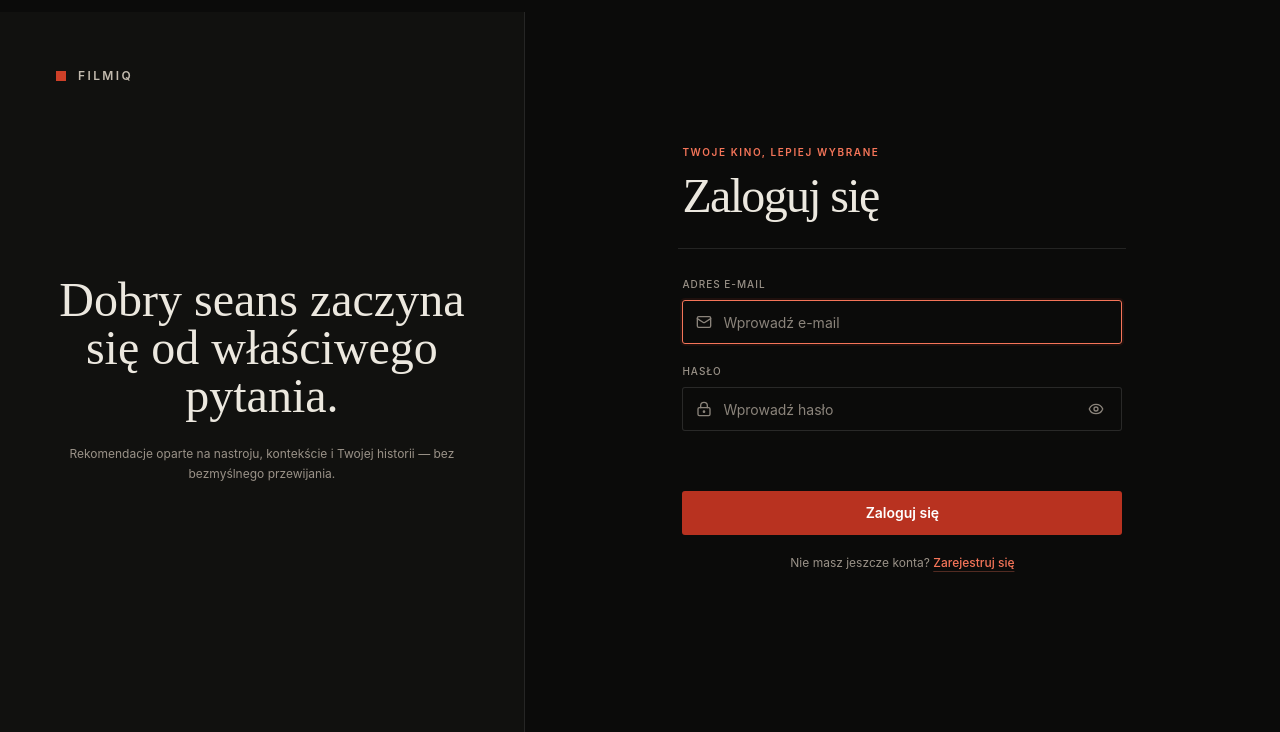
Scenario: App routing › moves from backend login to recommendations
In the field labelled "Adres e-mail": (902, 322) [682, 300, 1122, 344], type "user@example.com"
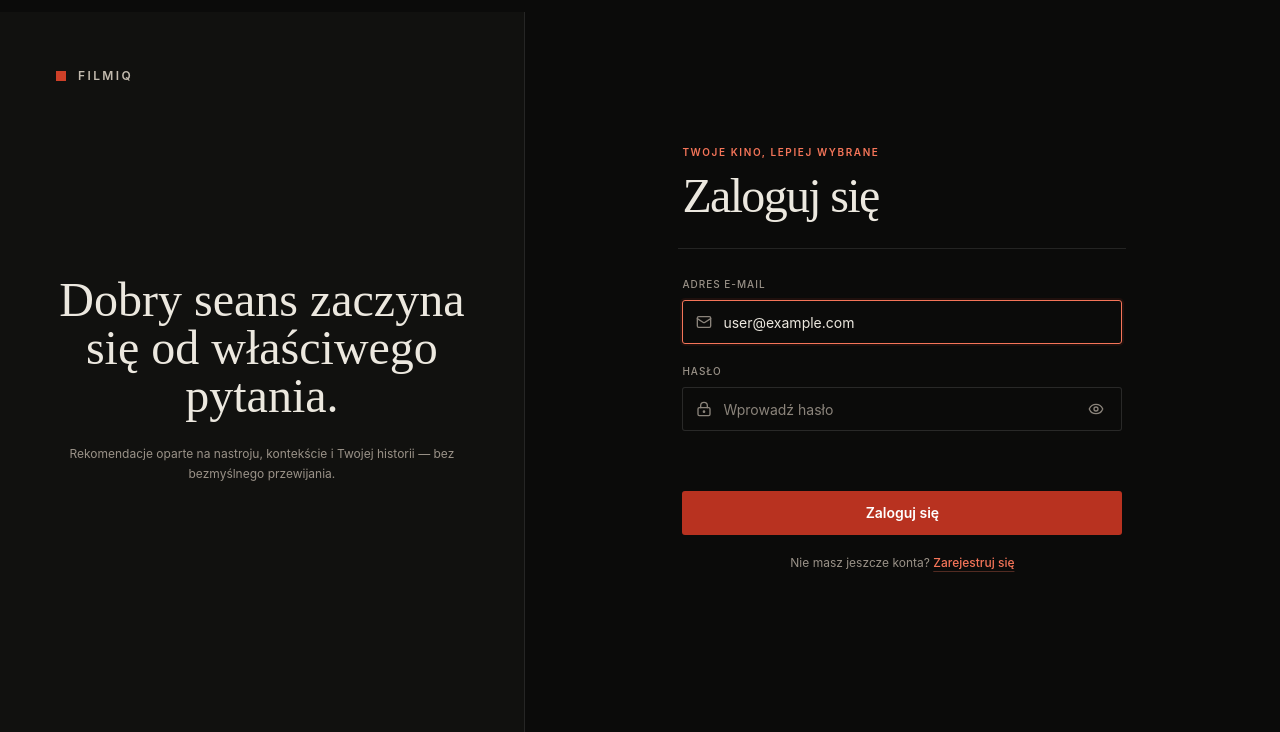
In the password field labelled "Hasło": (902, 409) [682, 387, 1122, 431], type "haslo123"
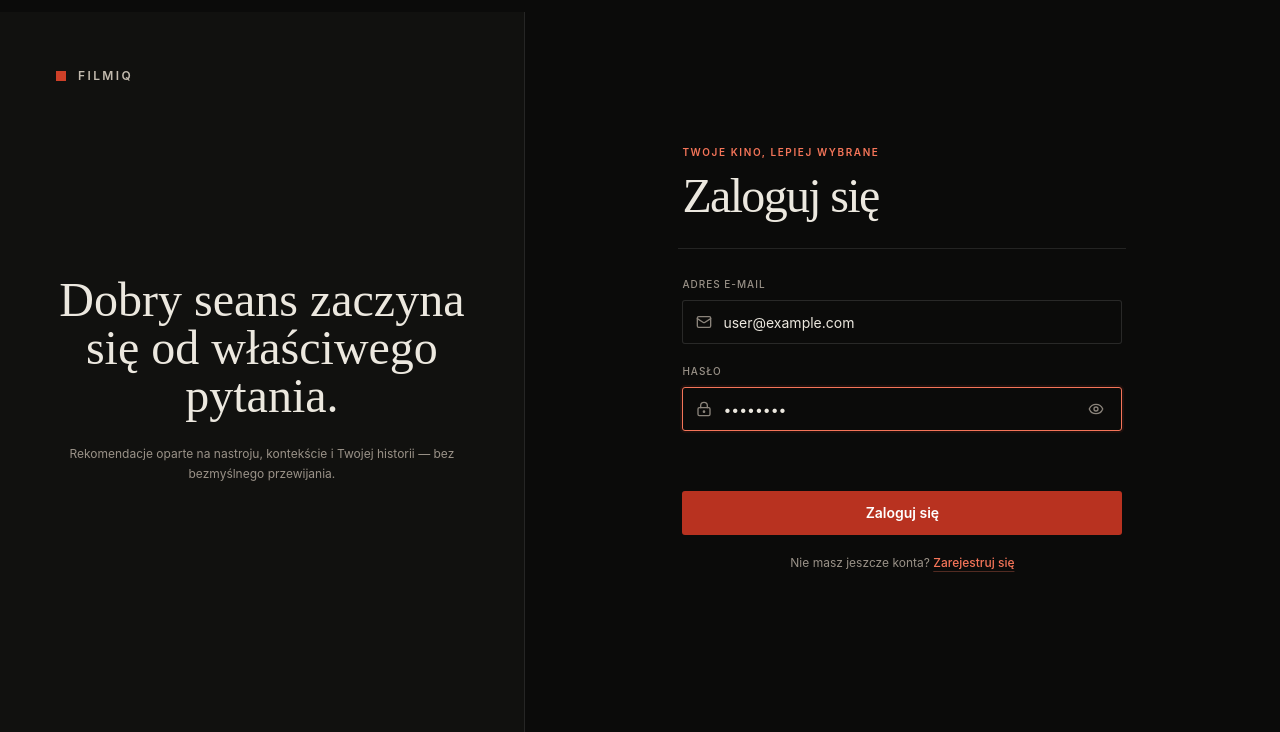
Click the button "Zaloguj się": (902, 513) [682, 491, 1122, 535]
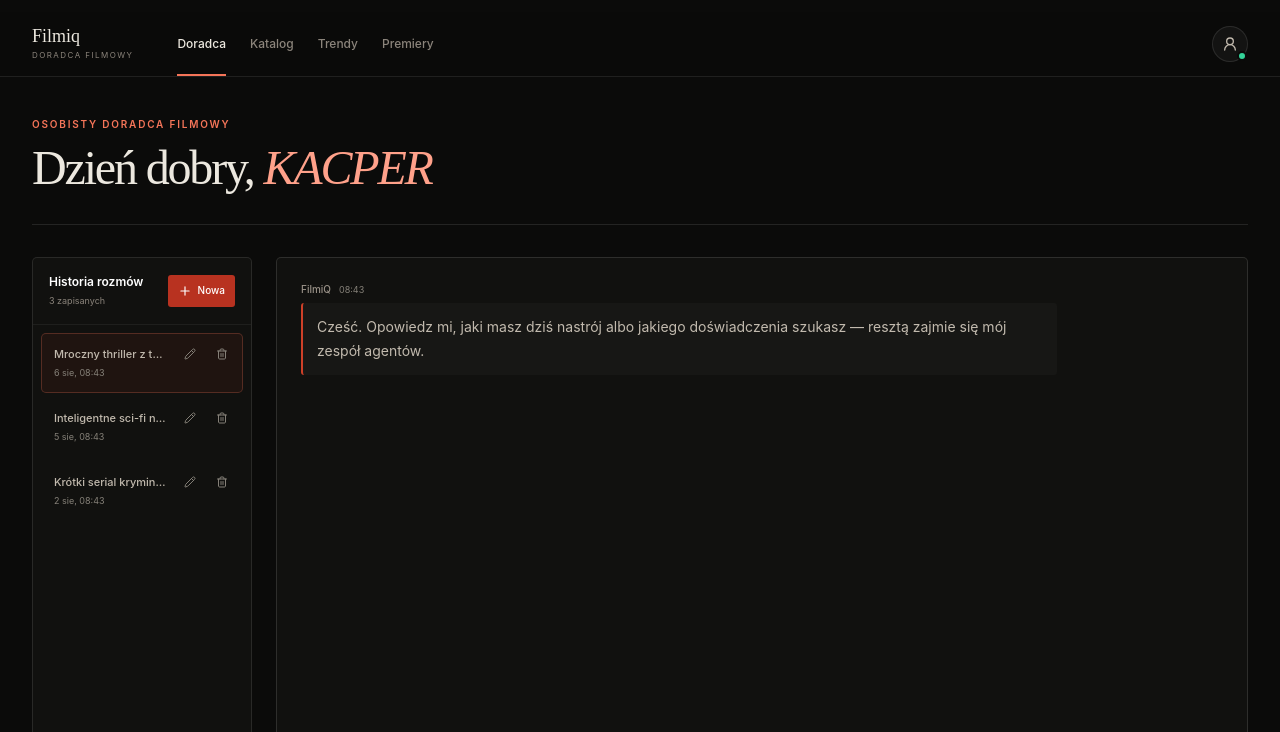
Expected: the heading "Dzień dobry, kacper" is shown, [32, 141, 432, 194]
